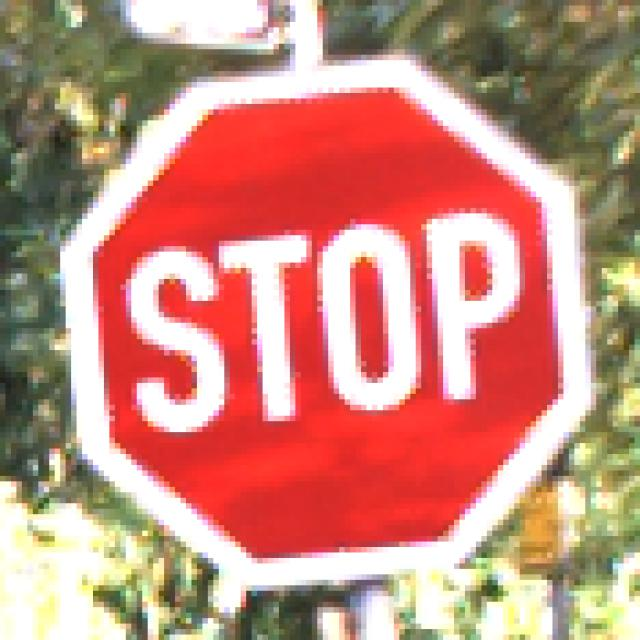STOP: (61, 61, 586, 586)
